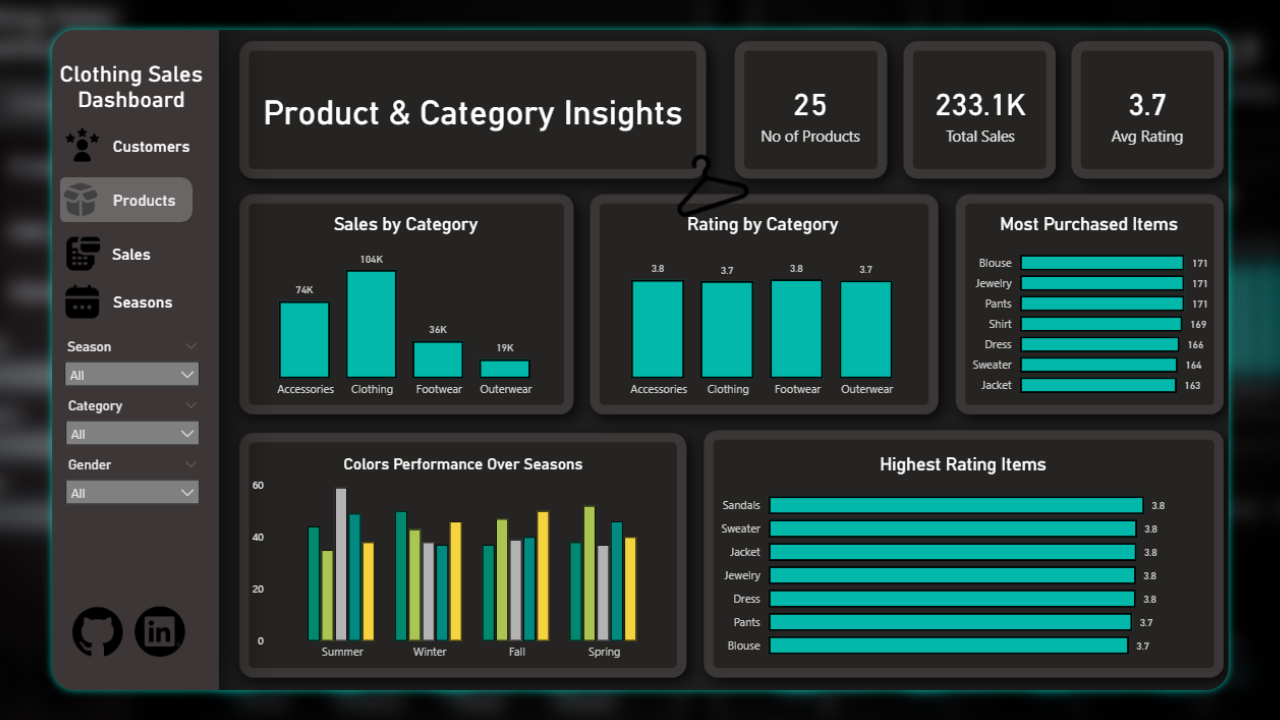

The page's visual inventory and layout, read from the dashboard file:
{"tool":"powerbi","page":{"name":"Products","canvas":[1280,720],"ordinal":1},"visuals":[{"type":"shape","box":[217.2,27.3,483.4,134.2],"z":0},{"type":"card","fields":{"Values":["shopping_behavior_updated.No of Products"]},"box":[749.7,27.1,141.9,134.2],"z":1000},{"type":"card","fields":{"Values":["shopping_behavior_updated.Total Sales"]},"box":[931.6,27.1,141.9,134.2],"z":2000},{"type":"card","fields":{"Values":["shopping_behavior_updated.Avg Rating"]},"box":[1111.1,26.8,142,134.2],"z":3000},{"type":"clusteredColumnChart","title":"Sales by Category","fields":{"Y":["Sum(shopping_behavior_updated.Purchase Amount (USD))"],"Category":["shopping_behavior_updated.Category"]},"box":[216.8,203.9,339.4,206.5],"z":4000},{"type":"clusteredColumnChart","title":"Rating by Category","fields":{"Y":["Avg(shopping_behavior_updated.Review Rating)"],"Category":["shopping_behavior_updated.Category"]},"box":[593.5,203.9,352.3,206.5],"z":5000},{"type":"shape","box":[0,0,185.5,134.2],"z":6000},{"type":"shape","box":[69.7,108.1,116.1,46.5],"z":7000},{"type":"image","box":[11.6,106.8,56.8,46.5],"z":8000},{"type":"shape","box":[69.7,166.2,116.1,46.5],"z":9000},{"type":"image","box":[15.5,164.9,46.5,47.7],"z":10000},{"type":"shape","box":[68.4,224.2,117.4,46.5],"z":11000},{"type":"image","box":[12.9,223.7,56.8,46.5],"z":12000},{"type":"shape","box":[69.8,274.9,116.1,46.5],"z":15000},{"type":"image","box":[11.8,274.9,56.8,46.5],"z":16000},{"type":"slicer","fields":{"Values":["shopping_behavior_updated.Season"]},"box":[11.1,334.1,164.8,63.3],"z":17000},{"type":"slicer","fields":{"Values":["shopping_behavior_updated.Category"]},"box":[12.2,397.4,163.7,63.3],"z":18000},{"type":"slicer","fields":{"Values":["shopping_behavior_updated.Gender"]},"box":[12.2,460.7,163.7,63.3],"z":19000},{"type":"image","box":[17.6,619.8,77.5,64.4],"z":20000},{"type":"image","box":[86.2,619.8,73.1,64.4],"z":21000},{"type":"actionButton","box":[14.2,104.8,147.3,51.3],"z":22000},{"type":"actionButton","box":[10.9,221.5,147.3,51.3],"z":23000},{"type":"actionButton","box":[15.4,271.9,147.3,51.3],"z":25000},{"type":"shape","box":[16.4,164.8,141.9,48],"z":26000},{"type":"clusteredBarChart","title":"Most Purchased Items","fields":{"Category":["shopping_behavior_updated.Item Purchased"],"Y":["CountNonNull(shopping_behavior_updated.Item Purchased)"]},"box":[985.4,204.1,267.3,206.2],"z":27000},{"type":"lineClusteredColumnComboChart","title":"Colors Performance Over Seasons","fields":{"Series":["shopping_behavior_updated.Color"],"Category":["shopping_behavior_updated.Season"],"Y":["CountNonNull(shopping_behavior_updated.Item Purchased)"]},"box":[217.2,461.6,462.7,230.2],"z":28000},{"type":"clusteredBarChart","title":"Highest Rating Items","fields":{"Category":["shopping_behavior_updated.Item Purchased"],"Y":["Avg(shopping_behavior_updated.Review Rating)"]},"box":[715.8,461.6,536.9,230.2],"z":29000}]}

Visuals, with their boxes in screenshot pixels (x1, y1, x2, y2), scaled from the page's 1280x720 canvas onto the 1280x720 screenshot:
shape: 217 27 701 162
card - shopping_behavior_updated.No of Products: 750 27 892 161
card - shopping_behavior_updated.Total Sales: 932 27 1074 161
card - shopping_behavior_updated.Avg Rating: 1111 27 1253 161
"Sales by Category" clusteredColumnChart: 217 204 556 410
"Rating by Category" clusteredColumnChart: 594 204 946 410
shape: 0 0 186 134
shape: 70 108 186 155
image: 12 107 68 153
shape: 70 166 186 213
image: 16 165 62 213
shape: 68 224 186 271
image: 13 224 70 270
shape: 70 275 186 321
image: 12 275 69 321
slicer - shopping_behavior_updated.Season: 11 334 176 397
slicer - shopping_behavior_updated.Category: 12 397 176 461
slicer - shopping_behavior_updated.Gender: 12 461 176 524
image: 18 620 95 684
image: 86 620 159 684
actionButton: 14 105 162 156
actionButton: 11 222 158 273
actionButton: 15 272 163 323
shape: 16 165 158 213
"Most Purchased Items" clusteredBarChart: 985 204 1253 410
"Colors Performance Over Seasons" lineClusteredColumnComboChart: 217 462 680 692
"Highest Rating Items" clusteredBarChart: 716 462 1253 692
